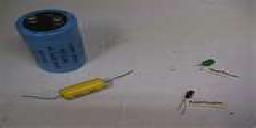Electrolytic-Capacitor: (10, 5, 103, 74), (38, 73, 126, 105), (178, 87, 198, 101)
